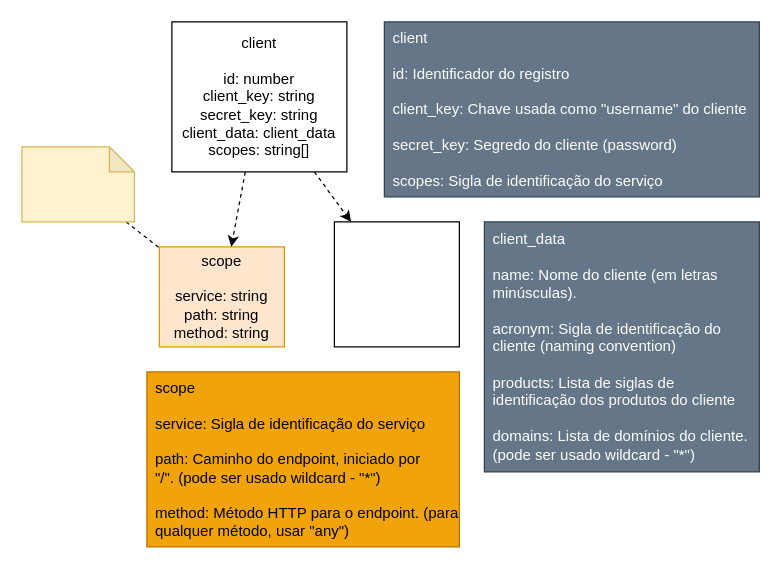
This 781x569 diagram has some shape labels left out. Each missing label, with the centre of its shape:
ainda não implementado: pixel 77 184
client_data name: string acronym: string products: string[] domains: string[]: pixel 396 284
